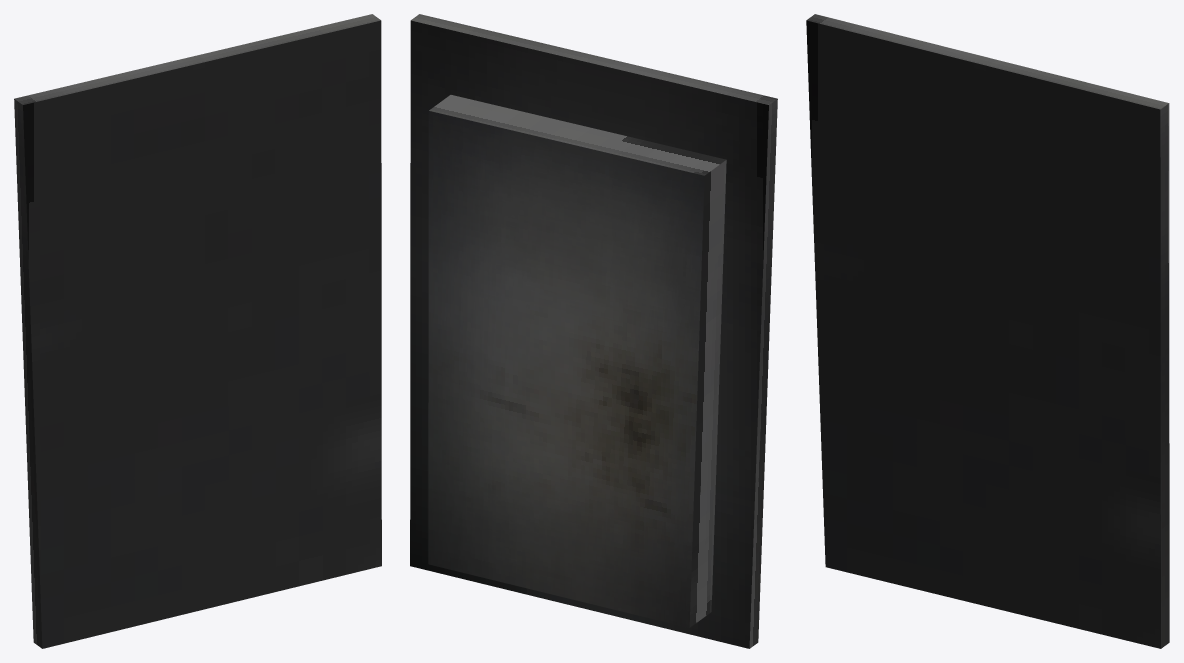
File: 25676_autosave.glb
3 renders of one model, left to right at view 1: azimuth 30°, elevation 25°; view 2: azimuth 150°, elevation 25°; view 3: azimuth 330°, elevation 25°, orthographic.
Parts seen in each view (by area): view 1: Cube.002; view 2: Cube.002; view 3: Cube.002.
Boxes of the visible parts, left/top/right/bottom form: Cube.002: left=14, top=14, right=381, bottom=648; Cube.002: left=410, top=14, right=777, bottom=648; Cube.002: left=806, top=14, right=1169, bottom=648.
Size of the model in its own units: 1.3 by 1.9 by 0.193.
Materials: 1 (1 with a texture image).
